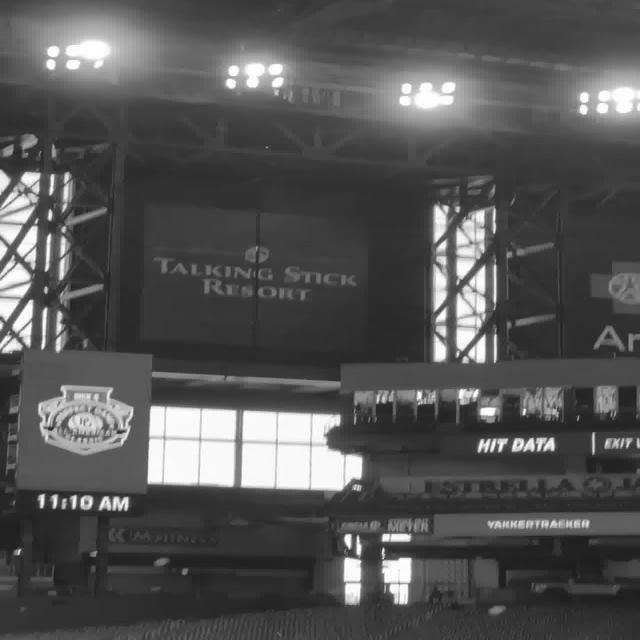baseball_glove: (36, 384, 134, 456)
